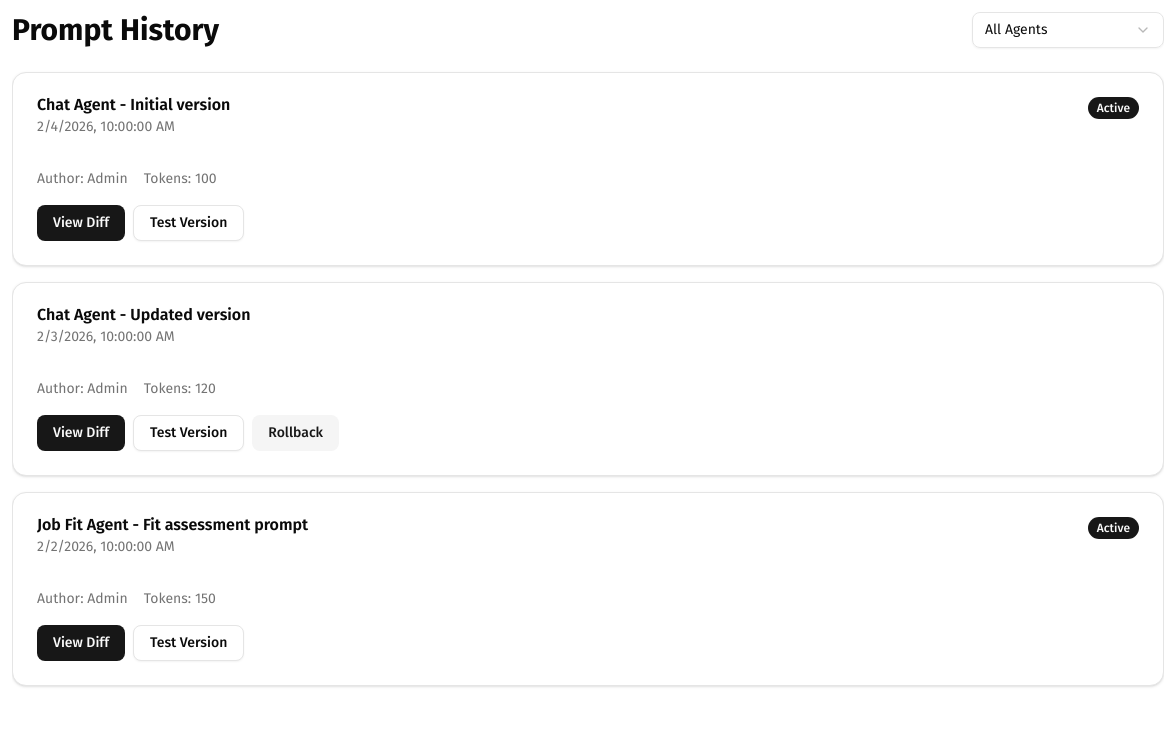
Test case: PromptHistoryPage › Filtering › should show only filtered versions after applying filter
Expected: the text "Job Fit Agent - Fit assessment prompt" is shown, [37, 517, 308, 533]
What coordinates should you click on to do the following:
click the dropdown
I would click on:
 (1068, 30)
Its box is [972, 12, 1164, 48].
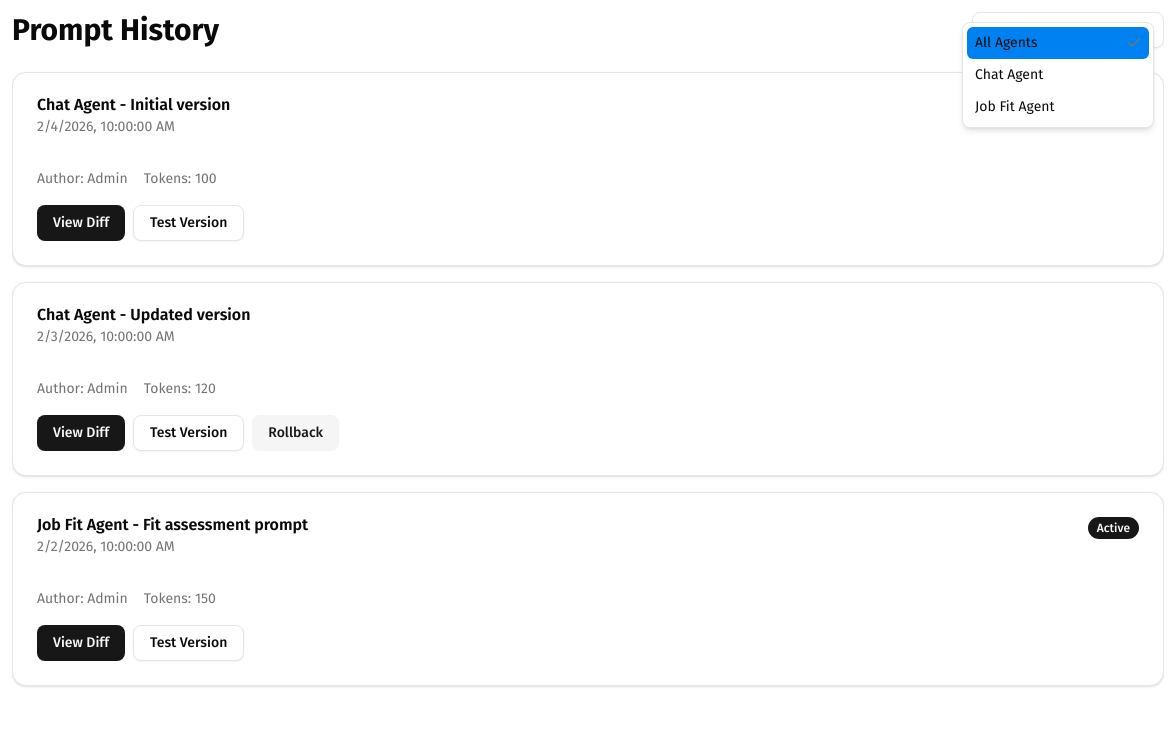
Now the text "Chat Agent" is shown
What coordinates should you click on to do the following:
click the option "Chat Agent"
I would click on:
 (1009, 74)
Its box is [975, 66, 1043, 83].
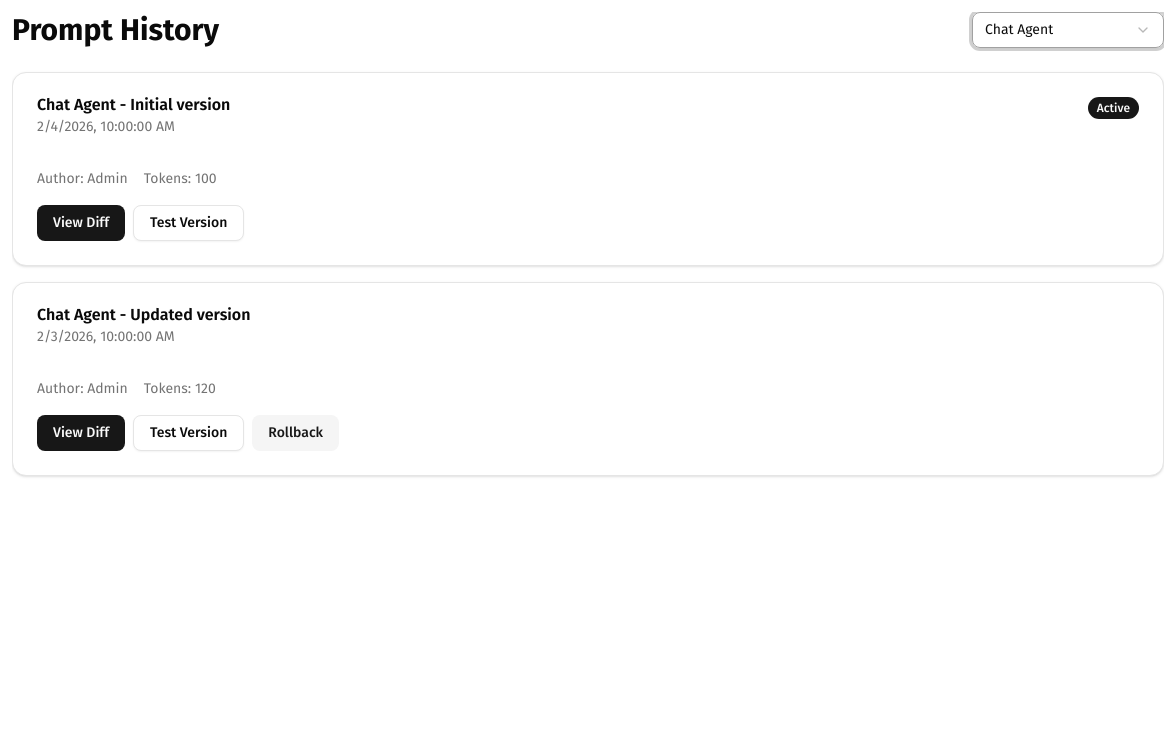
Expected: the text "Chat Agent - Initial version" is shown, [37, 97, 230, 113]
Now the text "Fit assessment prompt" is gone
